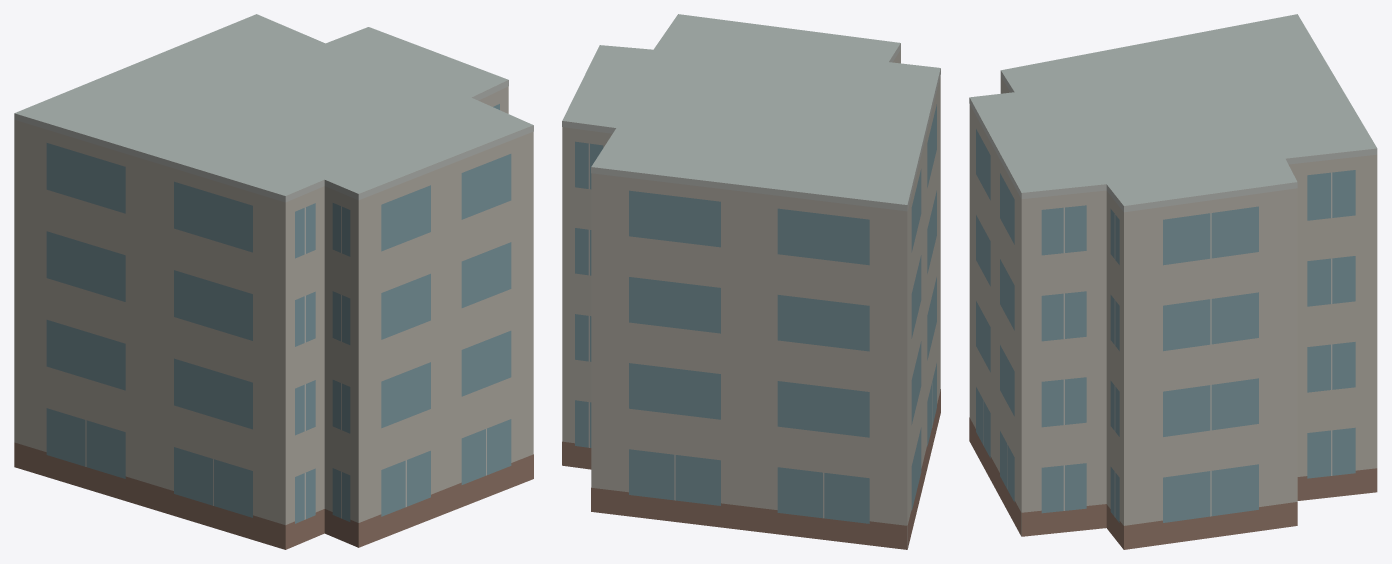
The model's file is survey-upis-32462999.glb.
3 renders of one model, left to right at view 1: azimuth 30°, elevation 25°; view 2: azimuth 150°, elevation 25°; view 3: azimuth 270°, elevation 25°, orthographic. The views are drawn at different scales.
Parts seen in each view (by area): view 1: survey-upis-32462999.tmp; view 2: survey-upis-32462999.tmp; view 3: survey-upis-32462999.tmp.
Boxes of the visible parts, x1,y1,x2,y2 form: survey-upis-32462999.tmp: (14,14,533,549); survey-upis-32462999.tmp: (562,14,940,549); survey-upis-32462999.tmp: (969,14,1377,549).
Size of the model in its own units: 16.14 by 13.46 by 14.49.
